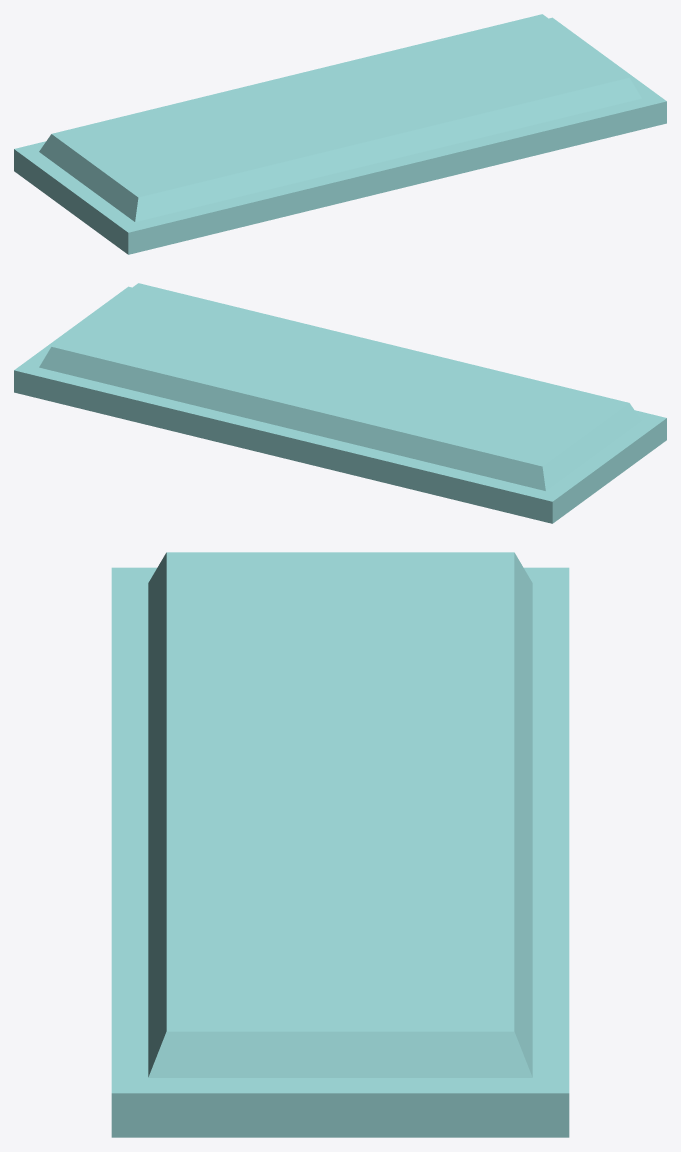
Rendered from keyboard.fbx.
3 renders of one model, top to bottom at view 1: azimuth 30°, elevation 25°; view 2: azimuth 150°, elevation 25°; view 3: azimuth 270°, elevation 25°, orthographic. The views are drawn at different scales.
Visible parts, largest first — view 1: keyboard; view 2: keyboard; view 3: keyboard.
Boxes of the visible parts, <box> form: keyboard: <box>14,14,666,254</box>; keyboard: <box>14,283,666,523</box>; keyboard: <box>111,552,569,1137</box>.
Size of the model in its own units: 2.31 by 0.1704 by 0.8511.
